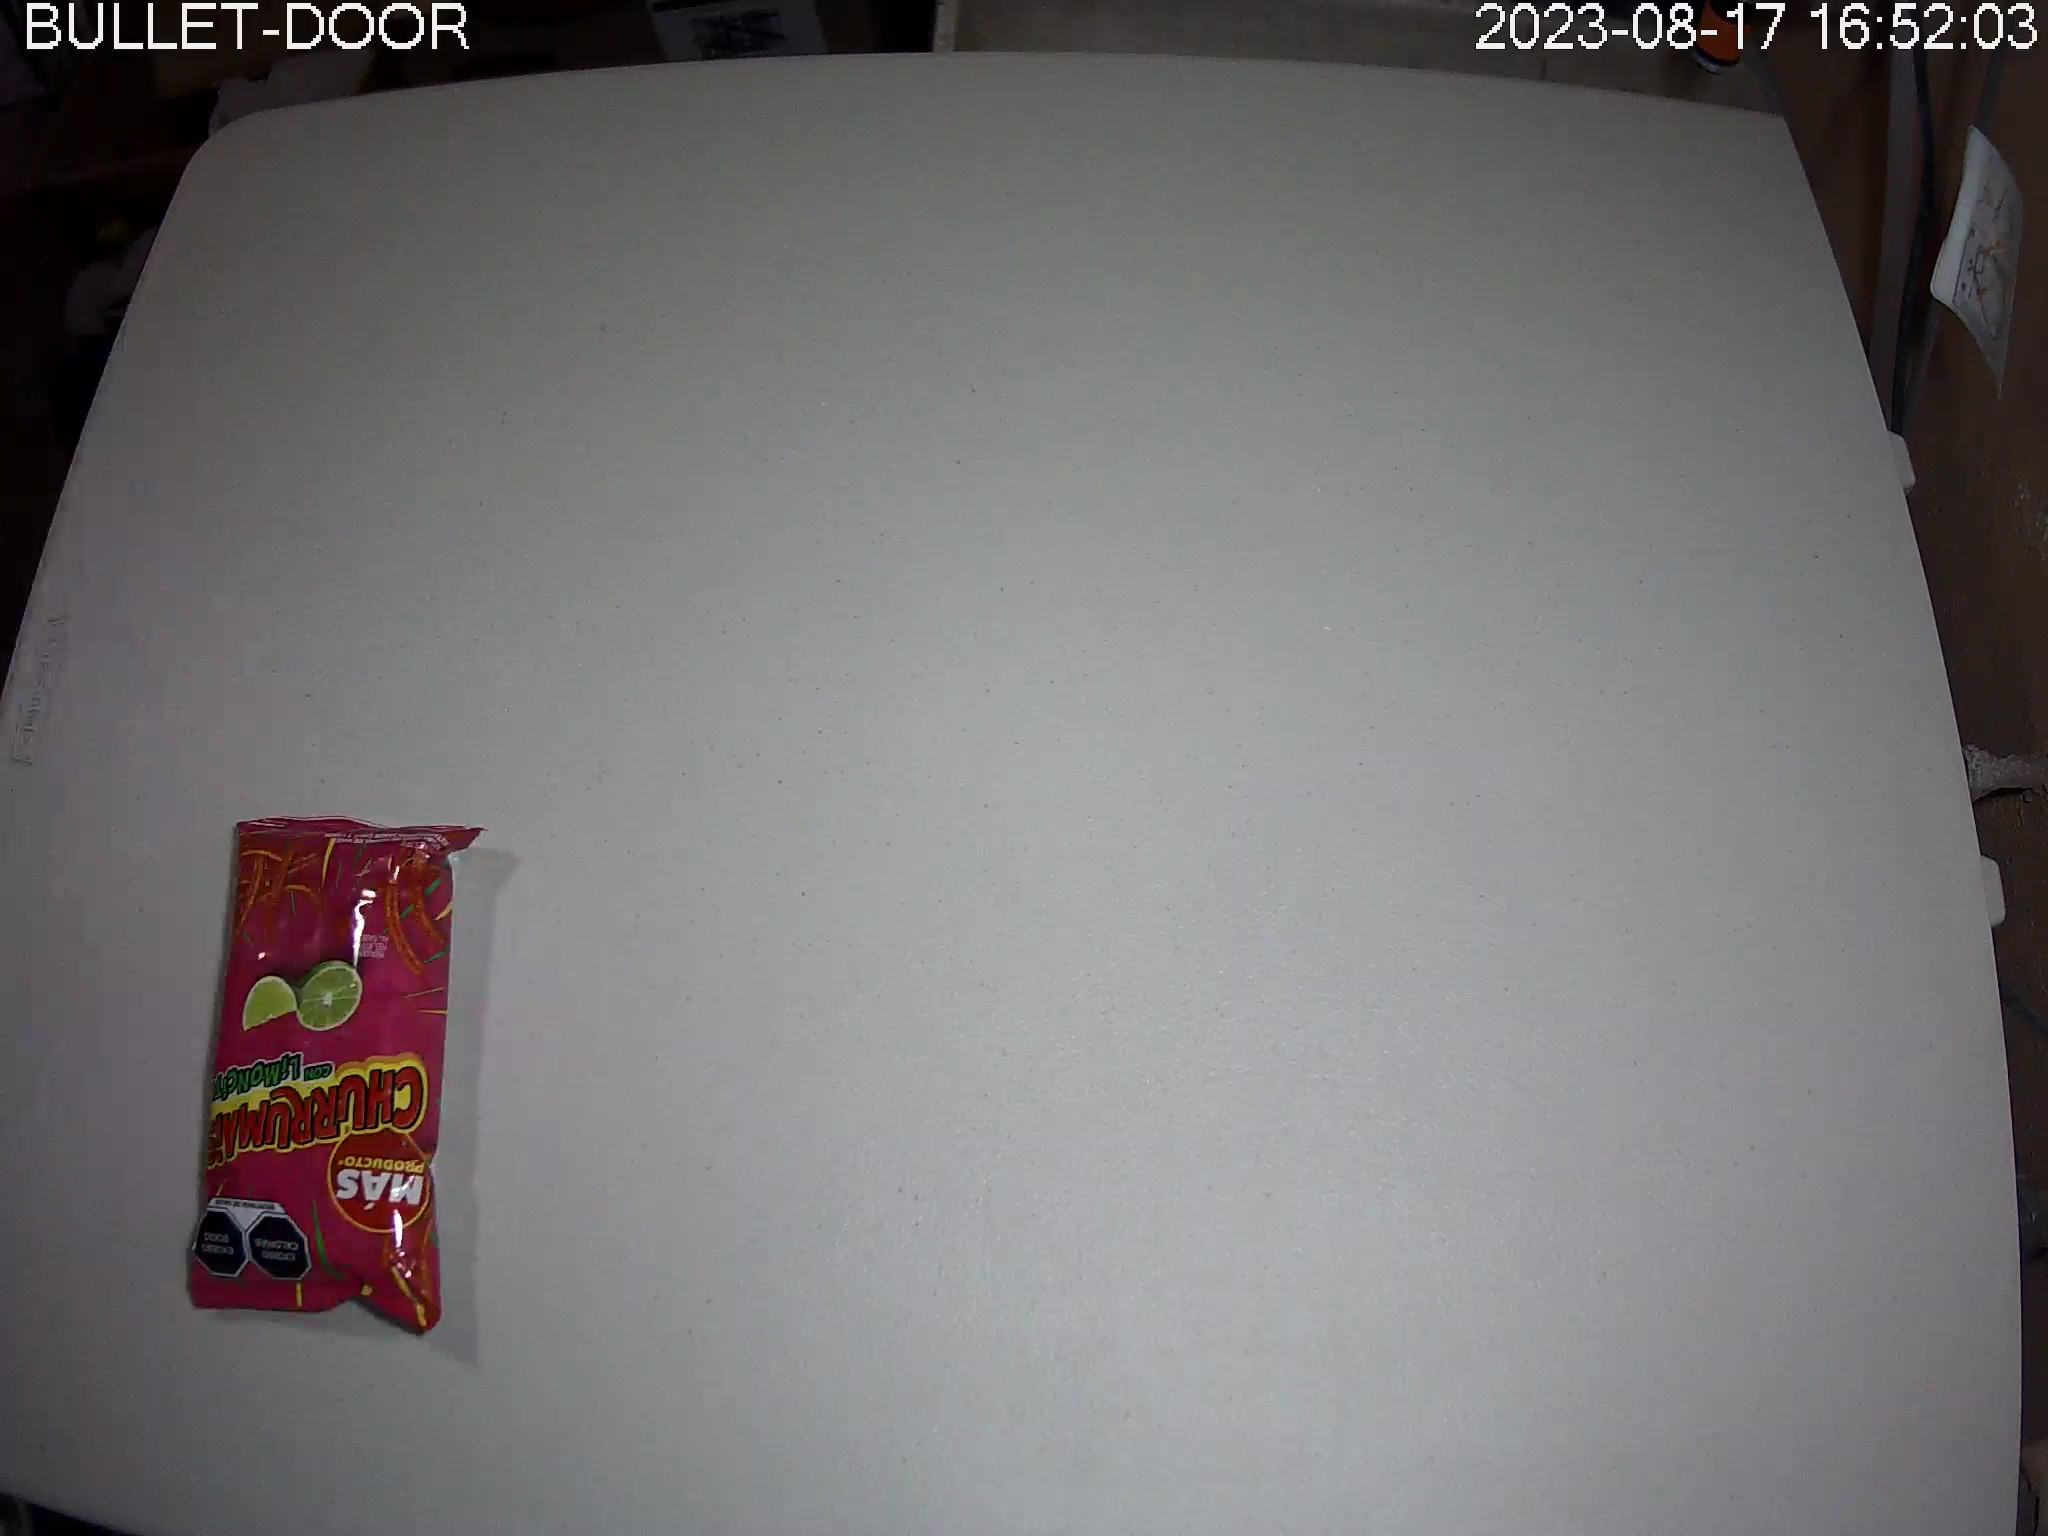Churrumais_70_F: (185, 812, 490, 1333)
